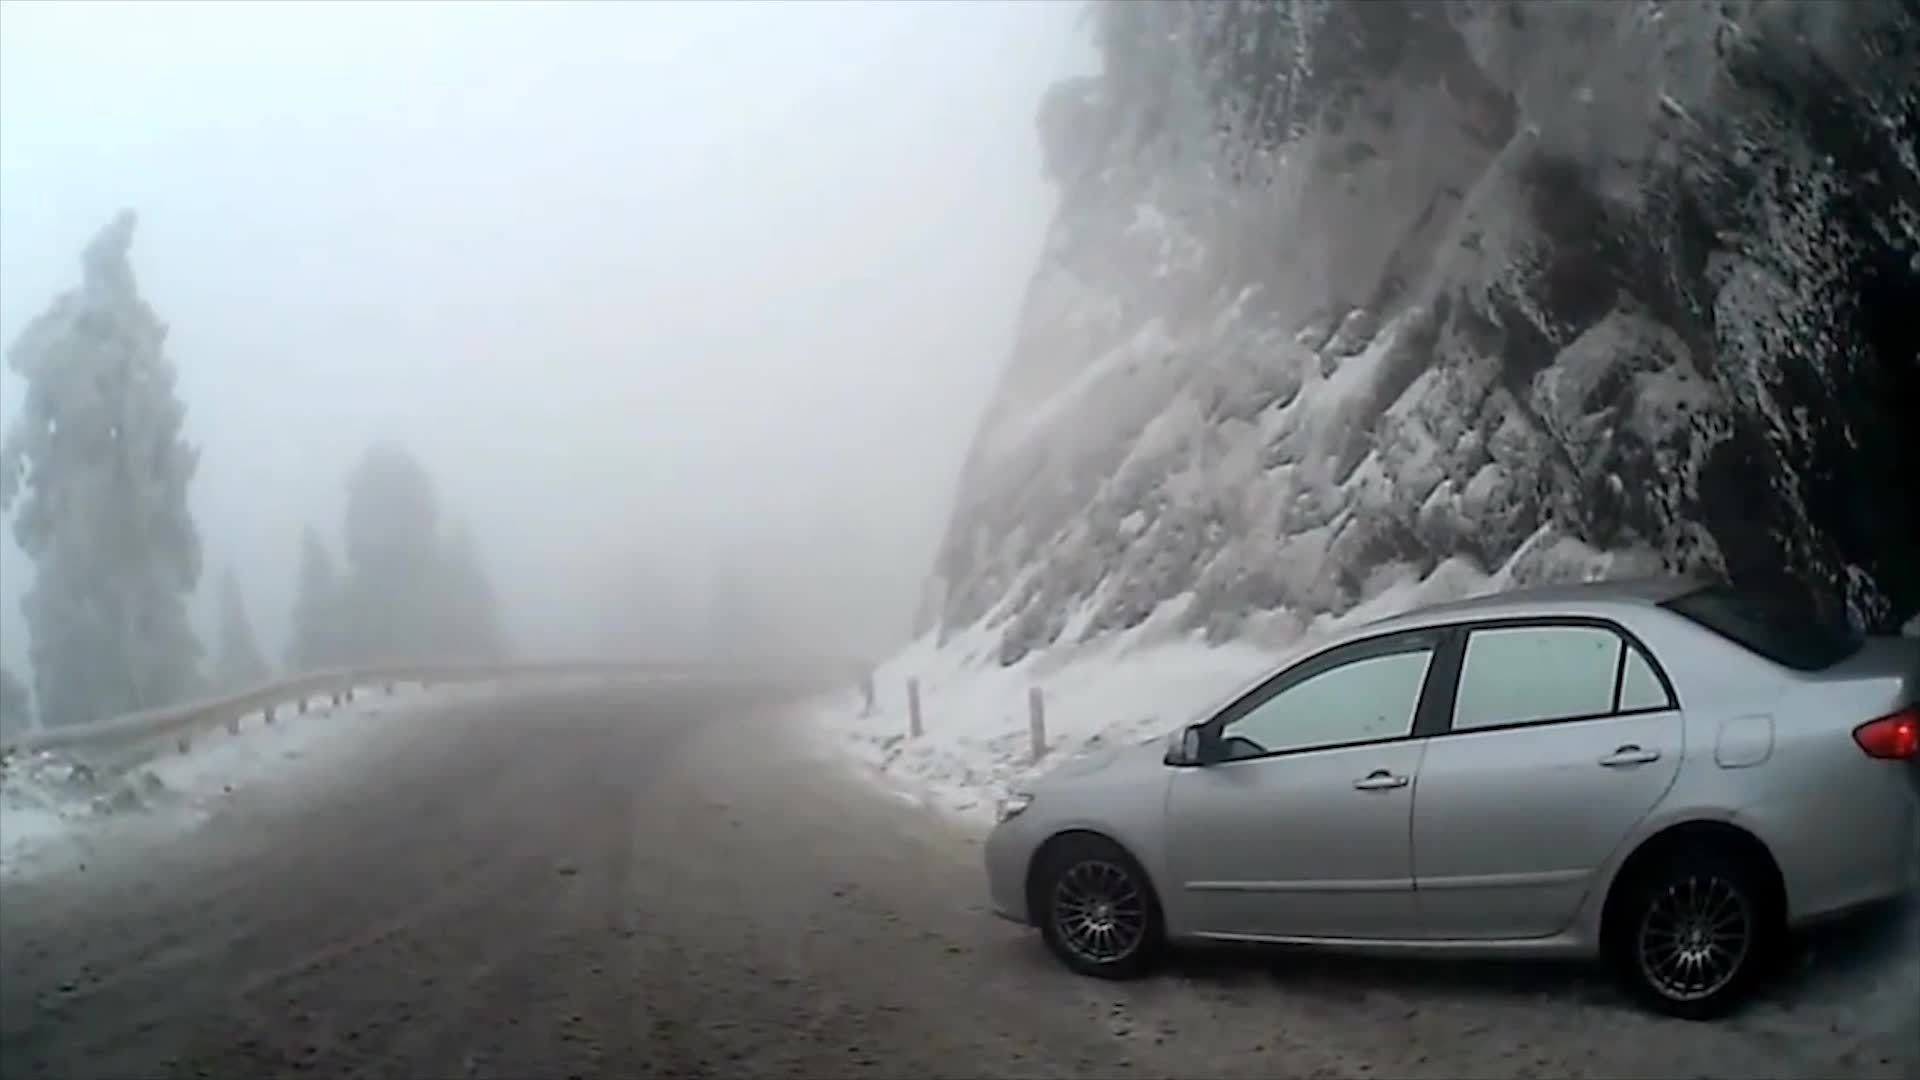vehicle: (982, 576, 1920, 1023)
